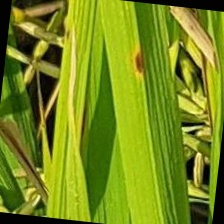Bacterial_Leaf_Blight: (132, 43, 149, 77)
